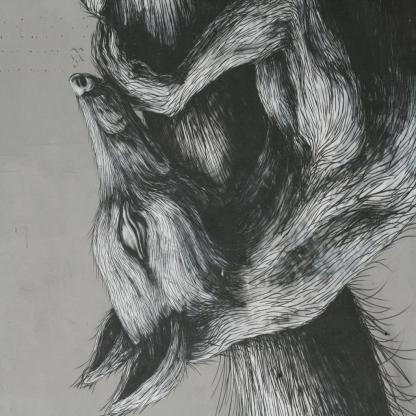boar: (68, 0, 415, 416)
